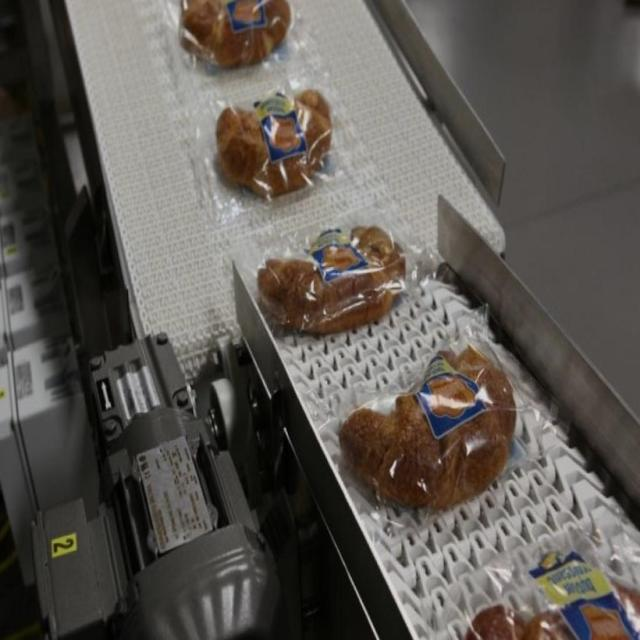food: (338, 340, 518, 512), (255, 223, 407, 335), (214, 85, 333, 202), (177, 0, 293, 72)
